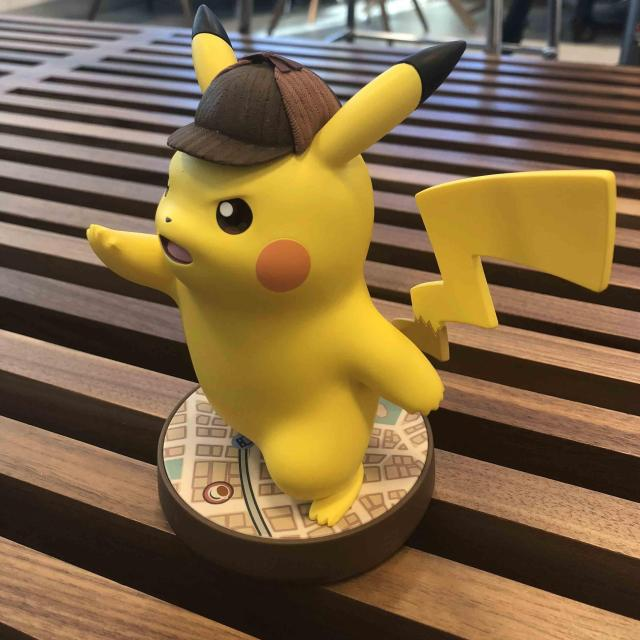pikachu: (85, 4, 619, 516)
